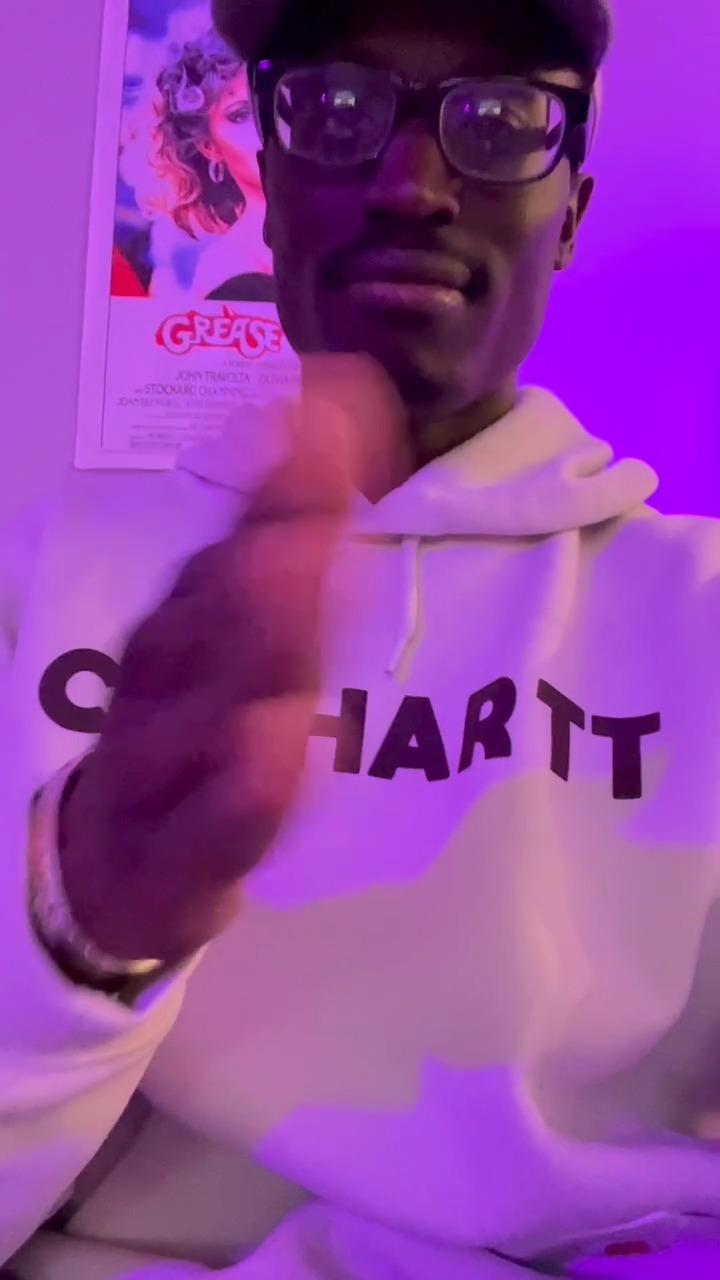Paper: (54, 354, 387, 964)
